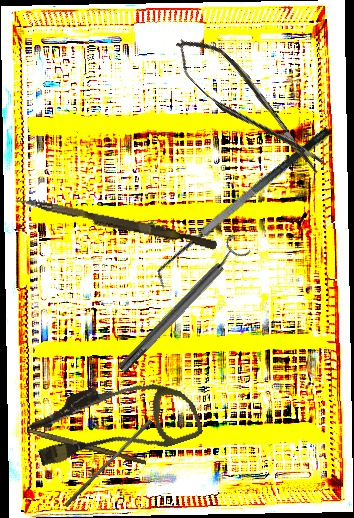Cannula: (24, 359, 205, 486)
Fixation Ring: (110, 233, 253, 379)
Micro Scissor: (165, 24, 333, 188)
Pusher: (13, 196, 219, 250), (63, 416, 154, 511)
Scalpel Handle: (26, 428, 148, 466)
Spatula Surgical: (145, 125, 344, 290)
